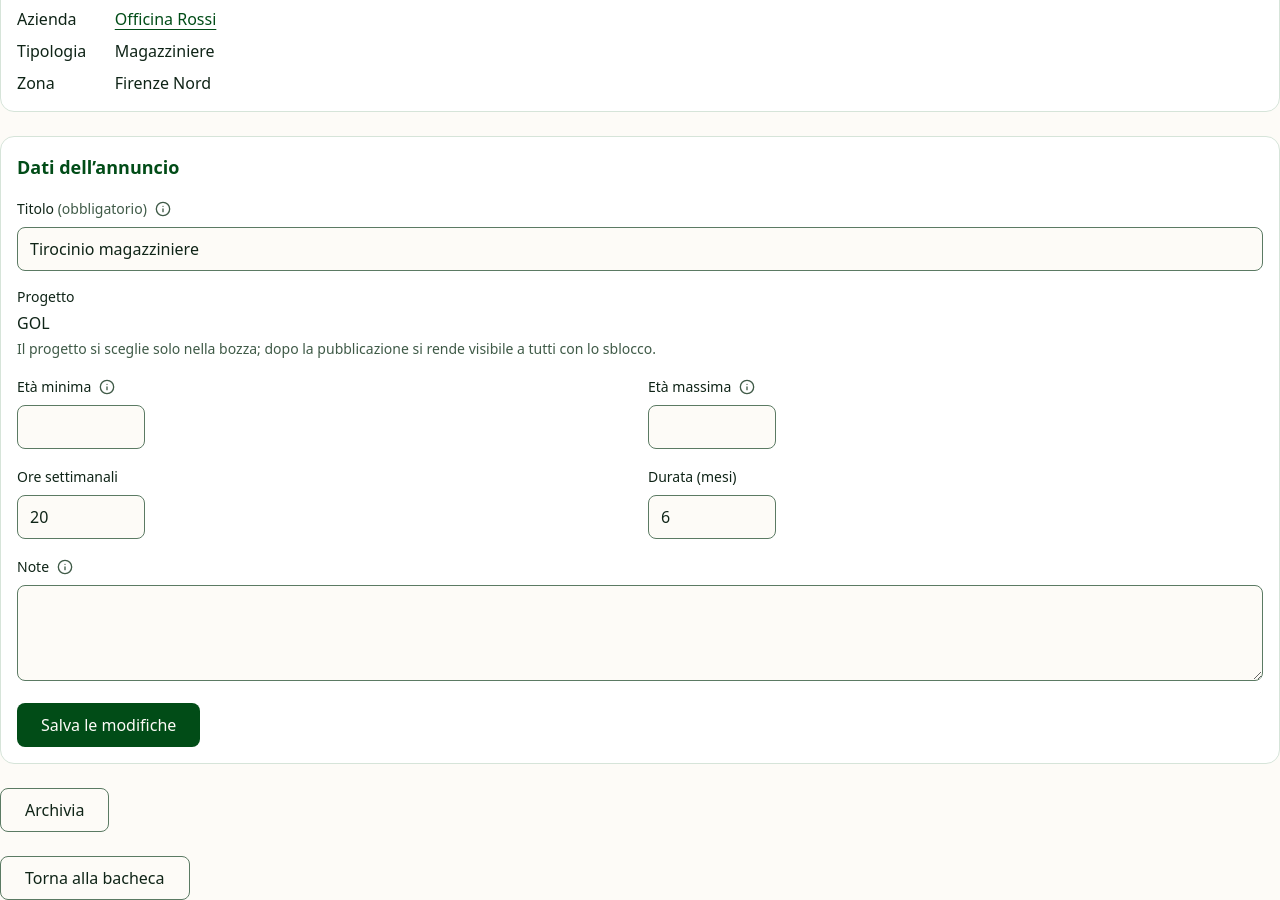
Test case: <BoardPostPage> › archiviando un annuncio con una candidatura in attesa, la conferma avvisa che perde la corsia veloce
(page scrolled)
What coordinates should you click on to do the following:
click the button "Archivia"
I would click on:
 (55, 810)
Its box is [0,788,110,832].
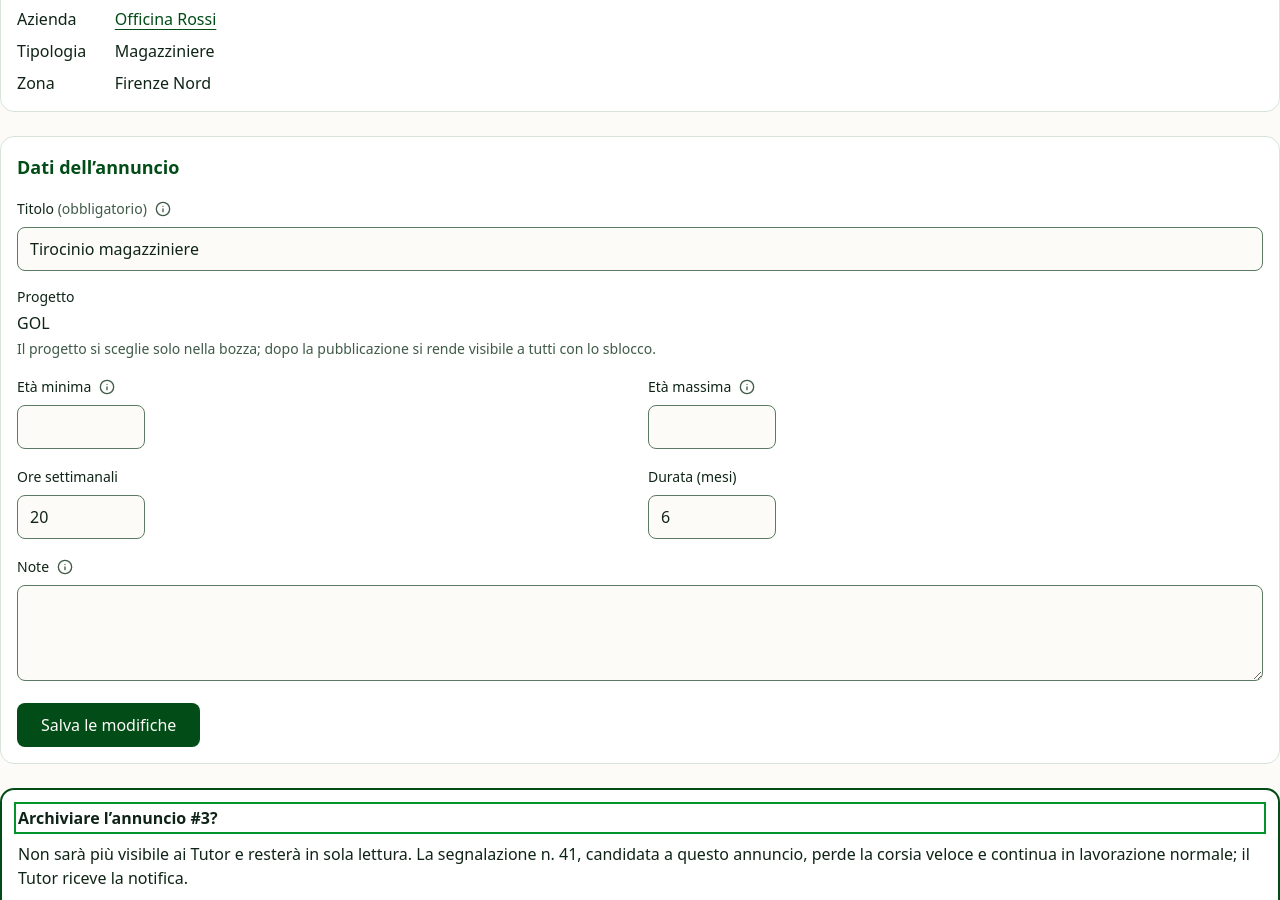
Expected: the text "La segnalazione n. 41, candidata a questo annuncio, perde la corsia veloce" is shown, [18,843,1250,889]
